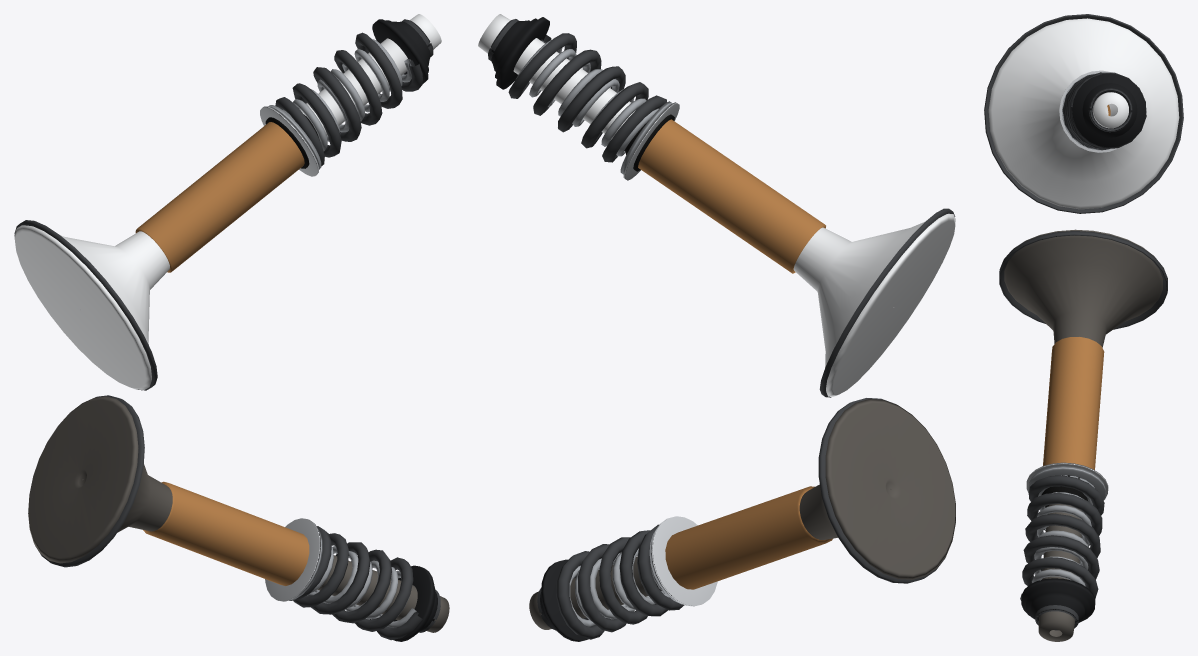
File: valve-set-4.glb
3 renders of one model, left to right at view 1: azimuth 30°, elevation 25°; view 2: azimuth 150°, elevation 25°; view 3: azimuth 270°, elevation 25°, orthographic. The views are drawn at different scales.
Visible parts, largest first — view 1: valve-set-4:bronze, valve-set-4:heatSteel, valve-set-4:chrome, valve-set-4:darkSteel, valve-set-4:steel, valve-set-4:satinBlack, valve-set-4:polishedSteel; view 2: valve-set-4:heatSteel, valve-set-4:bronze, valve-set-4:chrome, valve-set-4:darkSteel, valve-set-4:steel, valve-set-4:satinBlack, valve-set-4:polishedSteel; view 3: valve-set-4:chrome, valve-set-4:heatSteel, valve-set-4:darkSteel, valve-set-4:bronze, valve-set-4:satinBlack, valve-set-4:steel, valve-set-4:polishedSteel.
Part boxes in pixels (box(x1,y1,x2,y2)): valve-set-4:bronze: box(135, 122, 309, 585); valve-set-4:heatSteel: box(28, 396, 449, 632); valve-set-4:chrome: box(14, 14, 441, 390); valve-set-4:darkSteel: box(14, 19, 440, 640); valve-set-4:steel: box(268, 39, 416, 627); valve-set-4:satinBlack: box(372, 19, 437, 641); valve-set-4:polishedSteel: box(260, 106, 320, 601); valve-set-4:heatSteel: box(529, 399, 955, 629); valve-set-4:bronze: box(638, 119, 832, 589); valve-set-4:chrome: box(478, 14, 955, 396); valve-set-4:darkSteel: box(488, 19, 955, 639); valve-set-4:steel: box(515, 39, 682, 626); valve-set-4:satinBlack: box(491, 17, 588, 641); valve-set-4:polishedSteel: box(623, 102, 717, 606); valve-set-4:chrome: box(988, 18, 1179, 209); valve-set-4:heatSteel: box(1004, 229, 1162, 641); valve-set-4:darkSteel: box(984, 14, 1183, 628); valve-set-4:bronze: box(1043, 104, 1110, 469); valve-set-4:satinBlack: box(1021, 73, 1146, 630); valve-set-4:steel: box(1028, 73, 1110, 586); valve-set-4:polishedSteel: box(1026, 70, 1120, 499).
Bounding box in the file's own units: 111 × 154 × 49.49.
